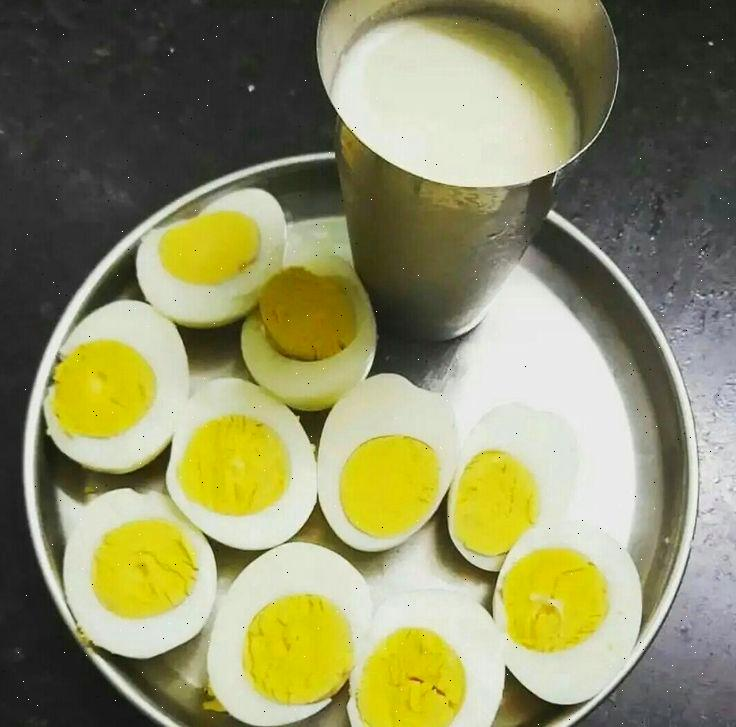eggs: (23, 199, 603, 705)
